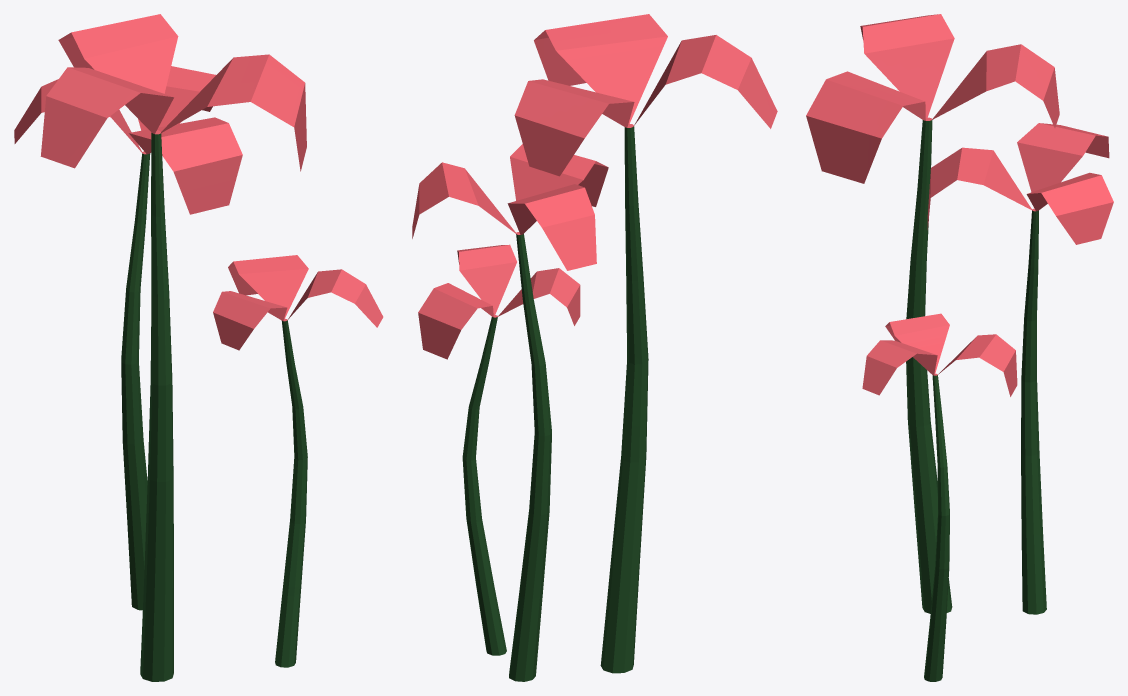
The model's file is Plant_2c.fbx.
3 renders of one model, left to right at view 1: azimuth 30°, elevation 25°; view 2: azimuth 150°, elevation 25°; view 3: azimuth 270°, elevation 25°, orthographic. The views are drawn at different scales.
Visible parts, largest first — view 1: Circle.002; view 2: Circle.002; view 3: Circle.002.
Boxes of the visible parts, x1,y1,x2,y2 form: Circle.002: [14, 14, 383, 681]; Circle.002: [412, 14, 777, 681]; Circle.002: [806, 14, 1113, 681].
Size of the model in its own units: 79.42 by 148 by 72.38.
